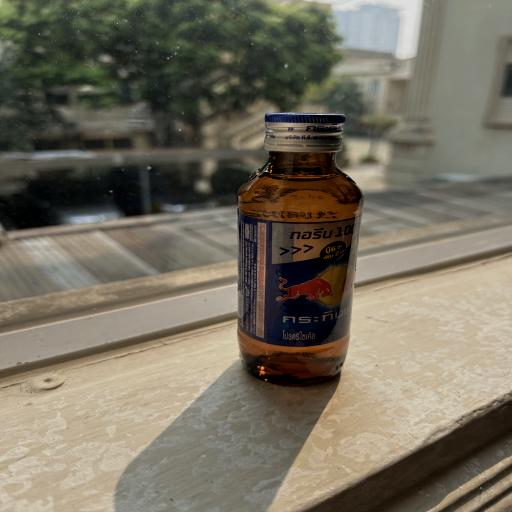bo_huc: (237, 113, 364, 386)
